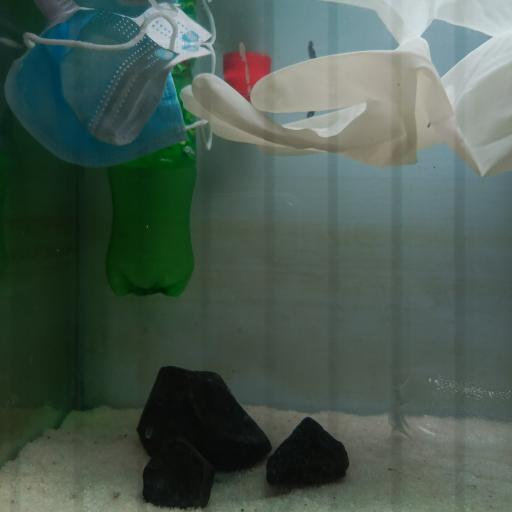bottle_cap: (226, 76, 269, 99)
glove: (179, 39, 512, 177)
mask: (1, 1, 216, 168)
plastic_bottle: (106, 78, 195, 298), (386, 366, 512, 468)
